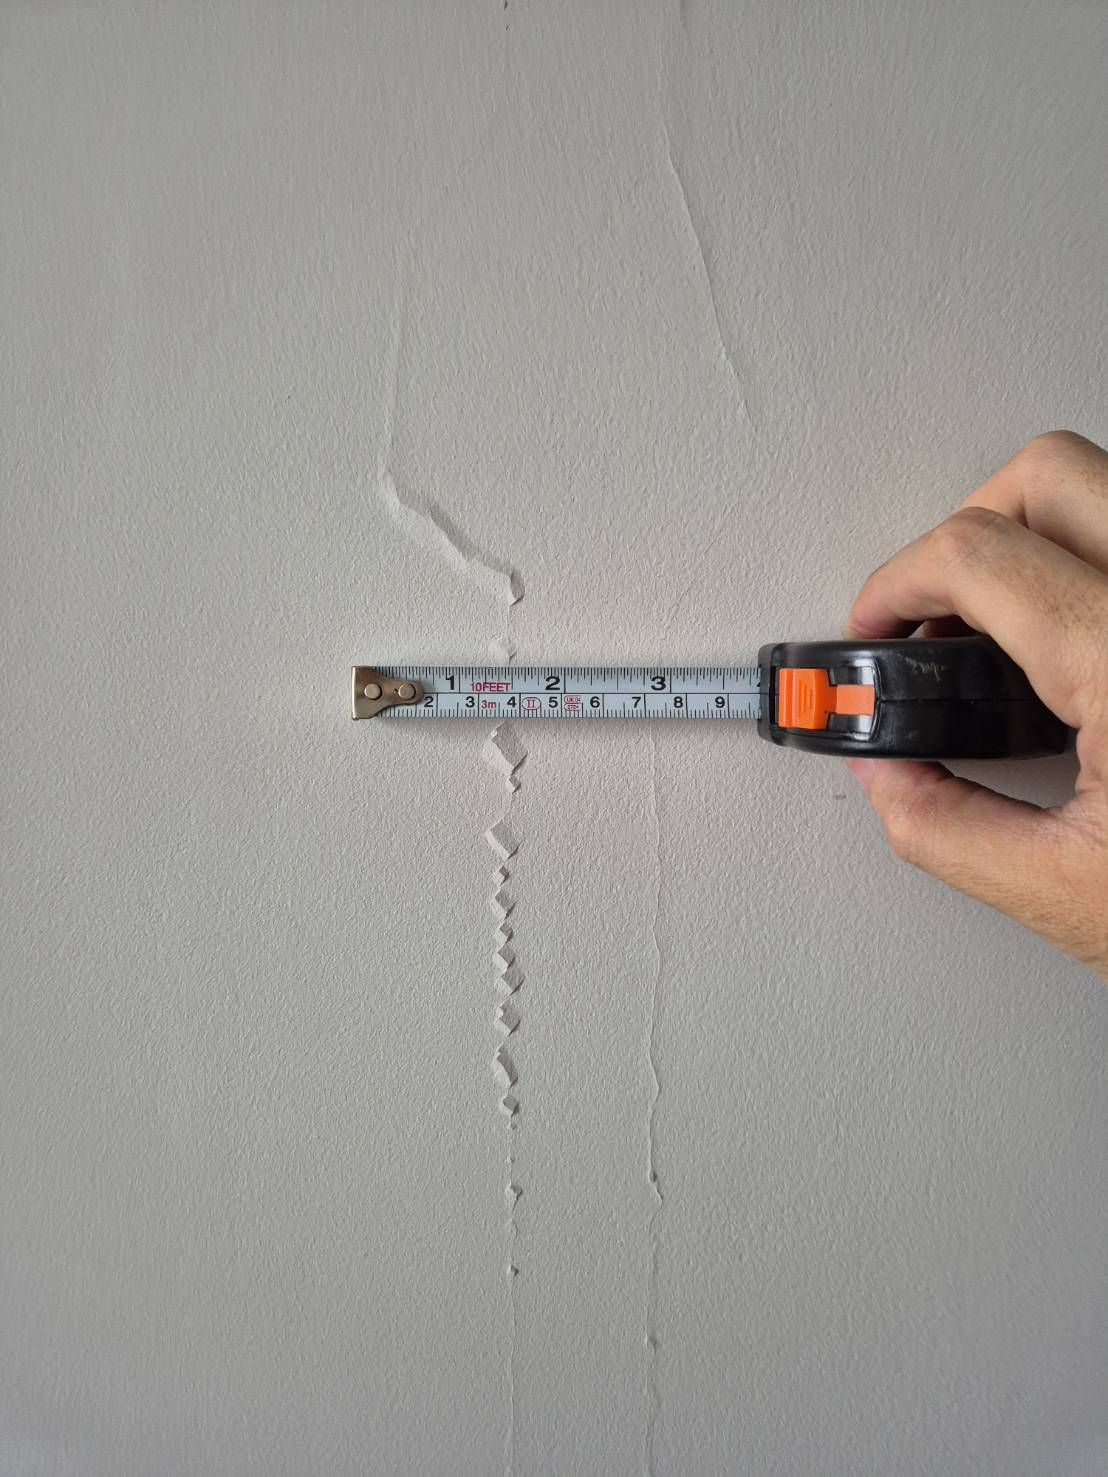Low: (436, 723, 759, 1477)
